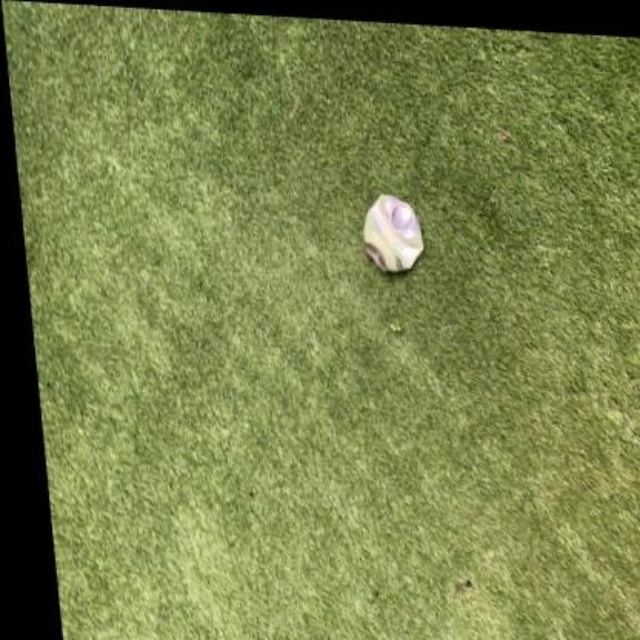trash: (363, 195, 422, 271)
